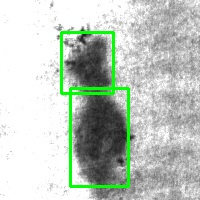patches: (70, 88, 128, 186), (61, 32, 113, 93)
